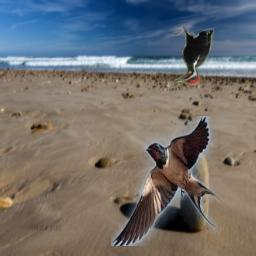Swallow: (111, 116, 228, 246)
Woodpecker: (174, 26, 214, 88)
